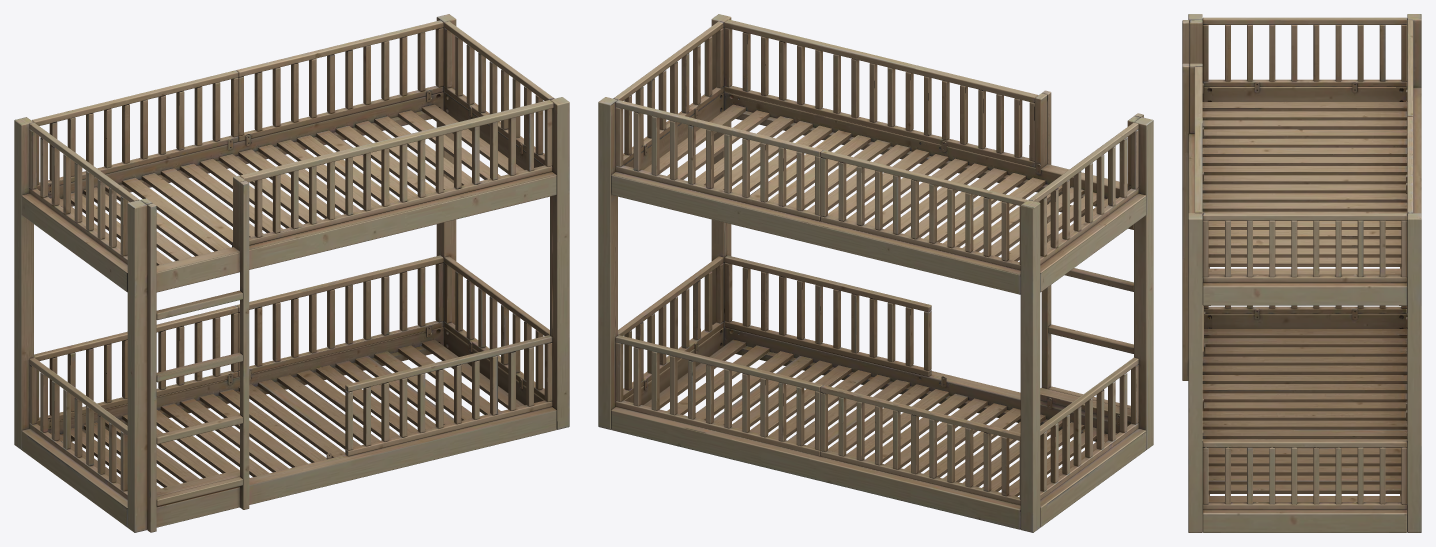
3 views of the same model, side by side, from view 1: azimuth 30°, elevation 25°; view 2: azimuth 150°, elevation 25°; view 3: azimuth 270°, elevation 25° (orthographic). The views are drawn at different scales.
Parts seen in each view (by area): view 1: 190x80; view 2: 190x80; view 3: 190x80.
Boxes of the visible parts, x1,y1,x2,y2 form: 190x80: [14, 14, 569, 532]; 190x80: [598, 14, 1153, 532]; 190x80: [1182, 14, 1421, 532].
Size of the model in its own units: 2.02 by 1.45 by 0.995.
Materials: 1 (1 with a texture image).
